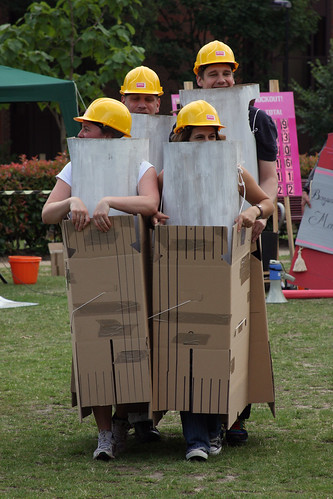person hardhat: (50, 95, 169, 471), (162, 102, 262, 423), (174, 33, 288, 269), (113, 61, 182, 183)
